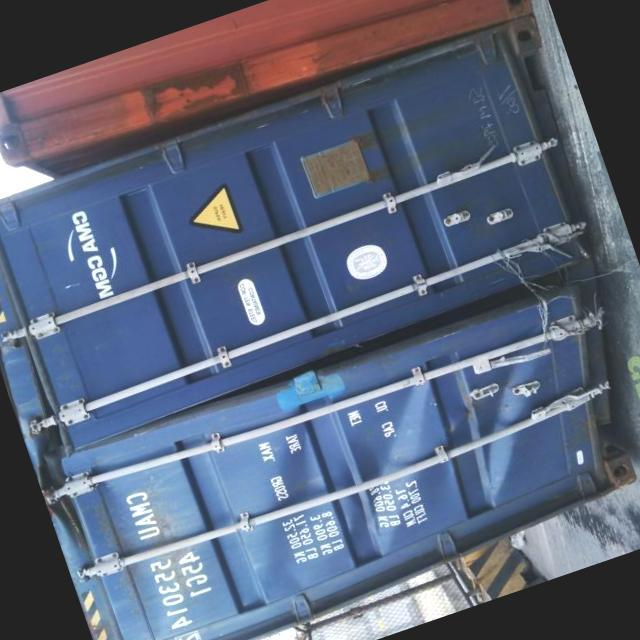hole: (141, 229, 640, 606), (5, 367, 133, 616)
rust: (339, 106, 452, 202)
